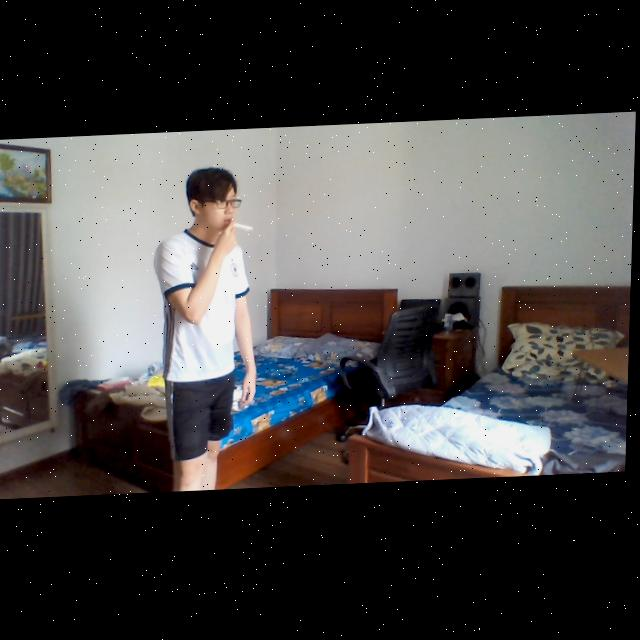cigarette: (232, 224, 255, 235)
